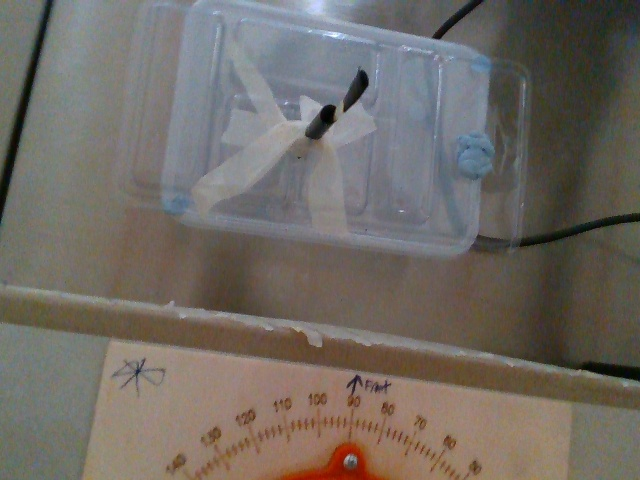test_strip: (333, 68, 368, 118)
